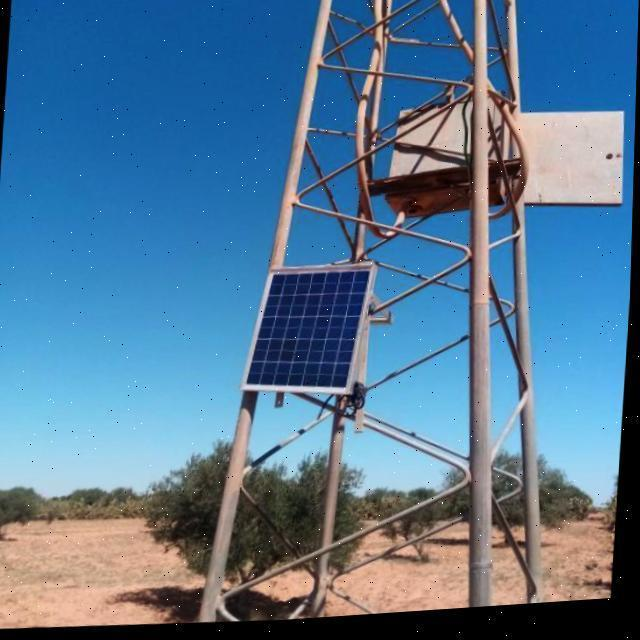Normal Solar Panel: (243, 266, 374, 405)
